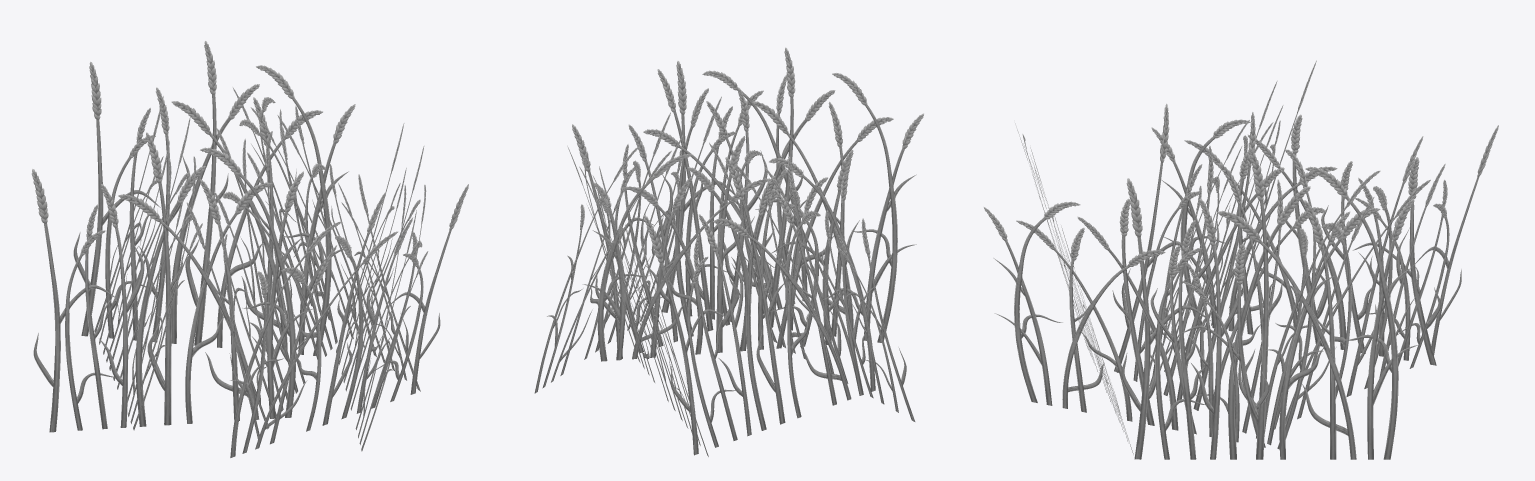
The model's file is WheatPlant02.fbx.
The picture shows the model from 3 angles, left to right: view 1: azimuth 30°, elevation 25°; view 2: azimuth 150°, elevation 25°; view 3: azimuth 270°, elevation 25°; orthographic projection. The views are drawn at different scales.
Parts seen in each view (by area): view 1: WheatPlant02_LOD0; view 2: WheatPlant02_LOD0; view 3: WheatPlant02_LOD0.
Part boxes in pixels (bbox=[...]): WheatPlant02_LOD0: bbox=[31, 41, 468, 457]; WheatPlant02_LOD0: bbox=[534, 47, 923, 456]; WheatPlant02_LOD0: bbox=[983, 60, 1498, 459].
Size of what is drawn, in the model's own units: 0.814 by 0.5703 by 0.9556.
